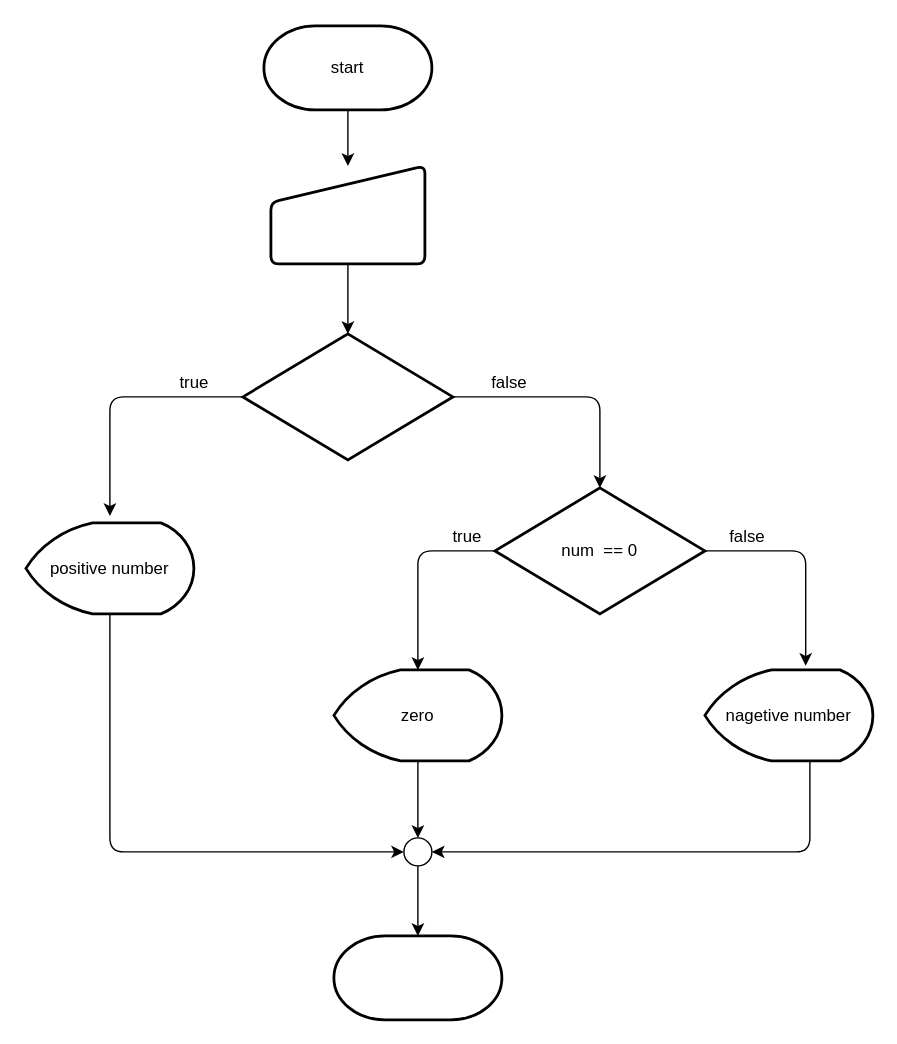
This 897x1044 diagram has some shape labels left out. Each missing label, with the centre of its shape:
"end" goes at pixel 417 977.
"num" goes at pixel 347 214.
"num > 0" goes at pixel 347 396.
